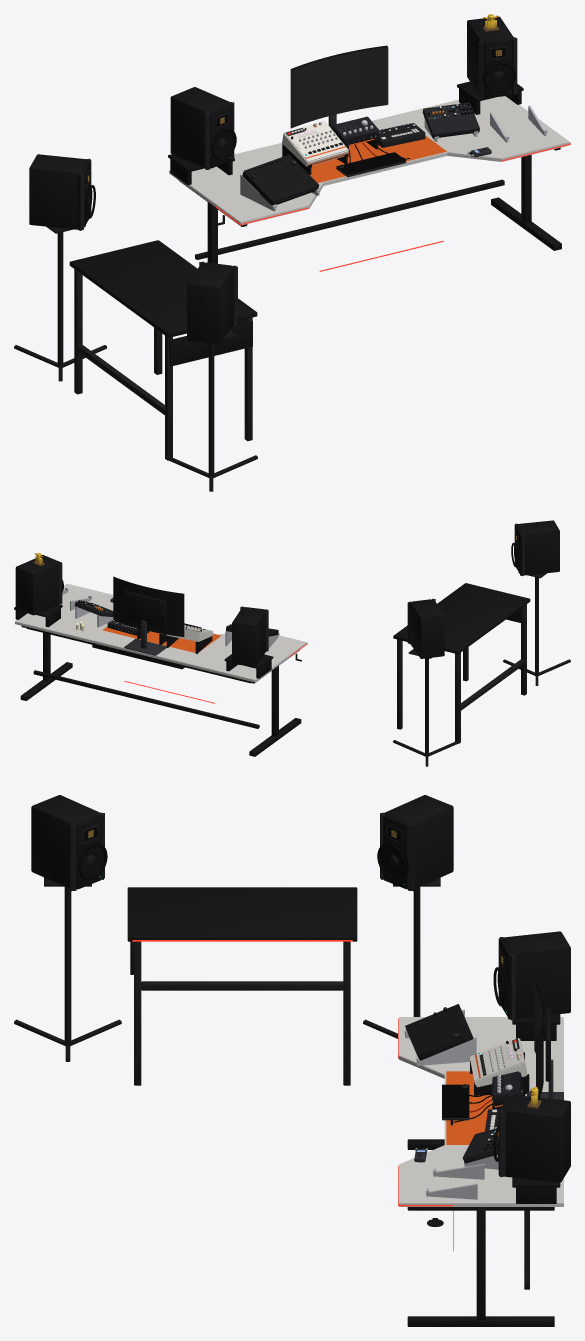
The model's file is studio-desk.glb.
3 renders of one model, top to bottom at view 1: azimuth 30°, elevation 25°; view 2: azimuth 150°, elevation 25°; view 3: azimuth 270°, elevation 25°, orthographic. The views are drawn at different scales.
Visible parts, largest first — view 1: desk, dj_table, monitor, adam_left, adam_dj, adam_dj2, adam_right, push3, drumbrute, mat, microfreak, stand_dj2 (+6 smaller); view 2: desk, dj_table, monitor, adam_dj2, adam_right, adam_dj, adam_left, stand_dj, stand_dj2, mat, shelf_left, shelf_right (+2 smaller); view 3: dj_table, desk, adam_dj, adam_dj2, adam_right, adam_left, push3, stand_dj2, drumbrute, mat, monitor, stand_dj (+7 smaller).
Part boxes in pixels (x1,y1,x2,y2): desk: [169, 96, 570, 323]; dj_table: [69, 240, 257, 460]; monitor: [290, 45, 388, 128]; adam_left: [170, 87, 236, 169]; adam_dj: [29, 154, 95, 230]; adam_dj2: [187, 261, 237, 344]; adam_right: [467, 16, 517, 98]; push3: [242, 154, 319, 205]; drumbrute: [282, 120, 348, 166]; mat: [310, 135, 446, 182]; microfreak: [422, 102, 479, 138]; stand_dj2: [165, 327, 257, 491]; desk: [15, 583, 307, 756]; dj_table: [393, 583, 530, 743]; monitor: [113, 576, 184, 655]; adam_dj2: [511, 520, 559, 576]; adam_right: [15, 555, 63, 615]; adam_dj: [407, 598, 444, 658]; adam_left: [232, 606, 268, 666]; stand_dj: [393, 647, 460, 766]; stand_dj2: [503, 572, 570, 685]; mat: [102, 626, 221, 652]; shelf_left: [224, 654, 273, 678]; shelf_right: [14, 604, 62, 627]; dj_table: [127, 887, 357, 1085]; desk: [398, 1017, 563, 1326]; adam_dj: [377, 795, 453, 891]; adam_dj2: [31, 795, 107, 891]; adam_right: [493, 1093, 570, 1182]; adam_left: [493, 931, 570, 1020]; push3: [405, 1004, 473, 1060]; stand_dj2: [14, 877, 121, 1061]; drumbrute: [470, 1038, 527, 1087]; mat: [446, 1071, 494, 1144]; monitor: [527, 983, 563, 1100]; stand_dj: [363, 877, 440, 1038].
Size of the model in its own units: 3.95 by 1.42 by 3.03.
